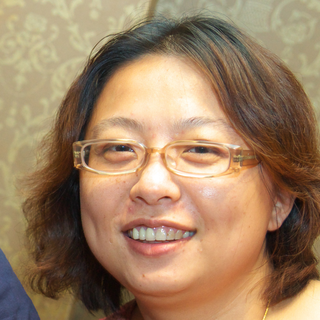eye: (176, 139, 224, 160), (98, 138, 139, 160)
